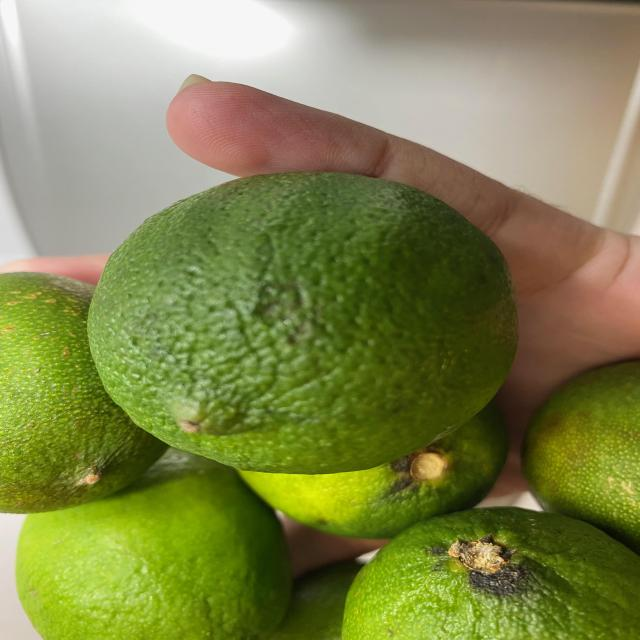lemon: (0, 178, 635, 640)
